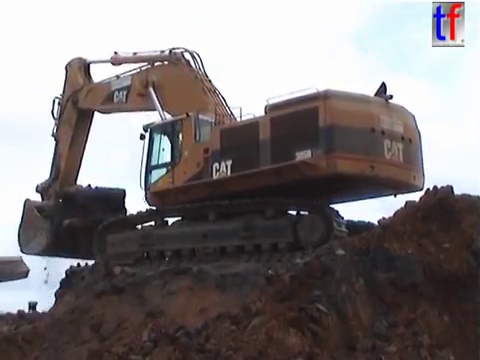excavator: (14, 44, 430, 280)
truck: (1, 252, 33, 286)
